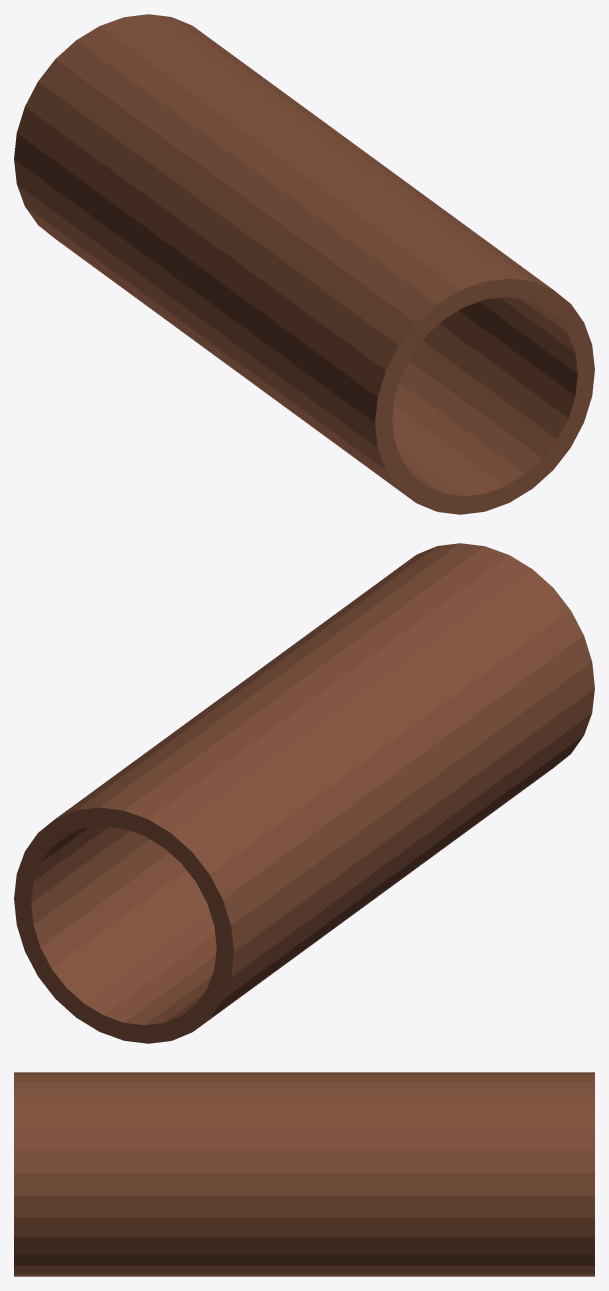
File: Forging_Sides_Brass_Tube.fbx
3 views of the same model, one above another, from view 1: azimuth 30°, elevation 25°; view 2: azimuth 150°, elevation 25°; view 3: azimuth 270°, elevation 25° (orthographic). The views are drawn at different scales.
Visible parts, largest first — view 1: Cylinder; view 2: Cylinder; view 3: Cylinder.
Boxes of the visible parts, <box> form: Cylinder: <box>14,14,594,514</box>; Cylinder: <box>14,543,594,1043</box>; Cylinder: <box>14,1072,594,1276</box>.
Bounding box in the file's own units: 43.39 × 43.39 × 123.
Materials: 1 (1 with a texture image).
